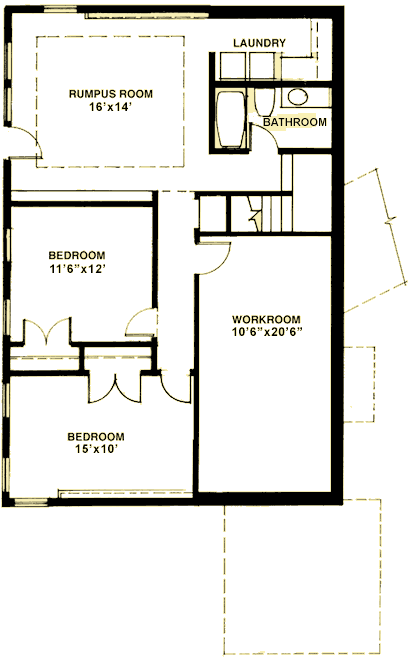door: (84, 372, 147, 406), (20, 314, 74, 347), (195, 238, 233, 277), (3, 126, 45, 160), (158, 368, 193, 405), (247, 118, 279, 154), (123, 307, 156, 338)
small_sink: (280, 88, 330, 110)
stairs: (225, 190, 293, 233)
tub: (213, 88, 252, 148)
window: (2, 39, 14, 123), (43, 2, 81, 15), (11, 498, 48, 509), (2, 457, 12, 494), (3, 380, 9, 416)
